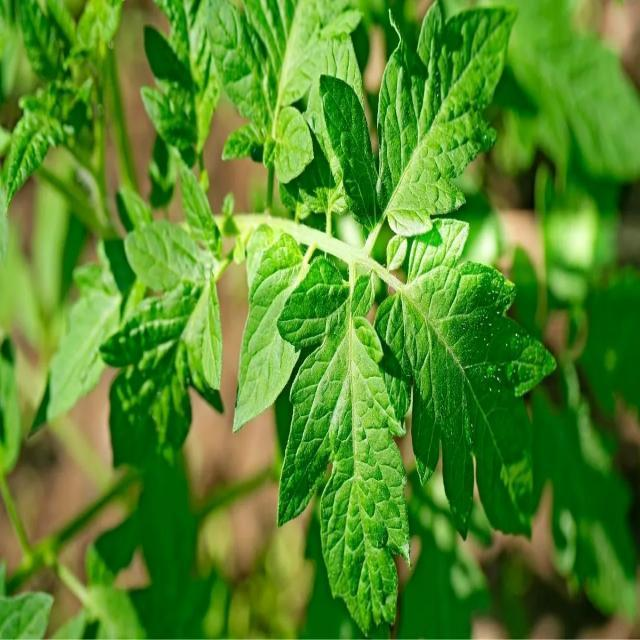Healthy Leaf: (386, 264, 578, 551), (280, 297, 408, 624), (116, 160, 232, 466), (380, 0, 530, 220), (231, 249, 306, 426), (318, 61, 376, 235)
